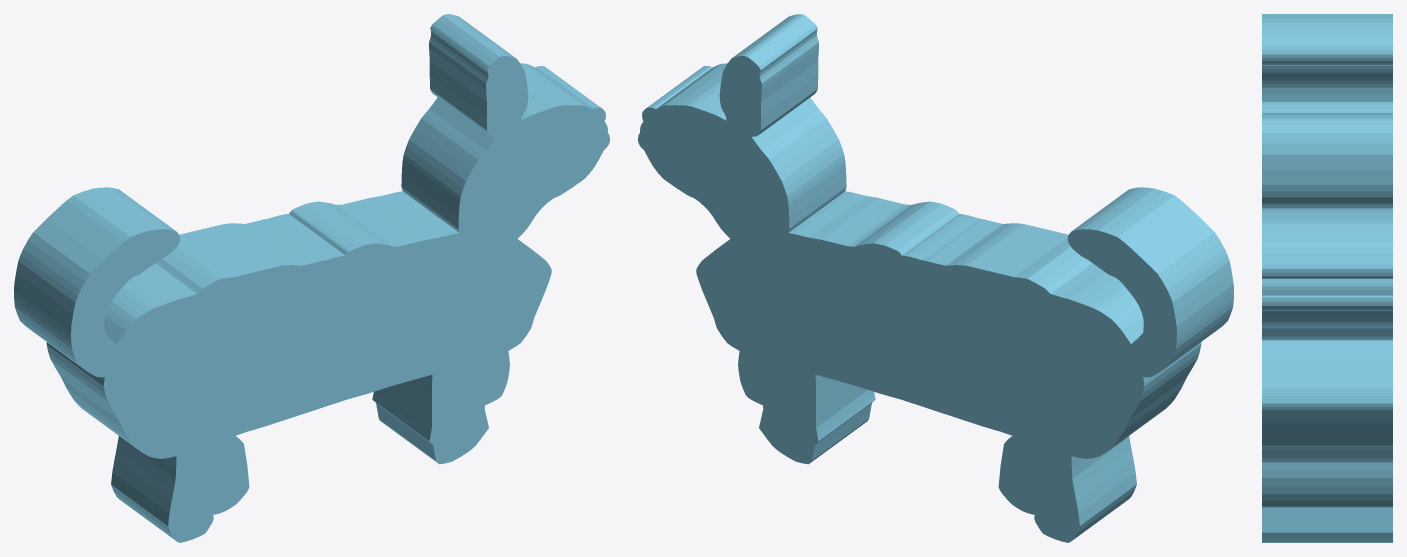
Rendered from McNeill.obj.
The picture shows the model from 3 angles, left to right: view 1: azimuth 30°, elevation 25°; view 2: azimuth 150°, elevation 25°; view 3: azimuth 270°, elevation 25°; orthographic projection. The views are drawn at different scales.
Visible parts, largest first — view 1: obj_0; view 2: obj_0; view 3: obj_0.
Part boxes in pixels (x1,y1,x2,y2): obj_0: [14, 14, 609, 542]; obj_0: [638, 14, 1233, 542]; obj_0: [1262, 14, 1392, 542].
Size of the model in its own units: 54.47 by 39.42 by 10.
